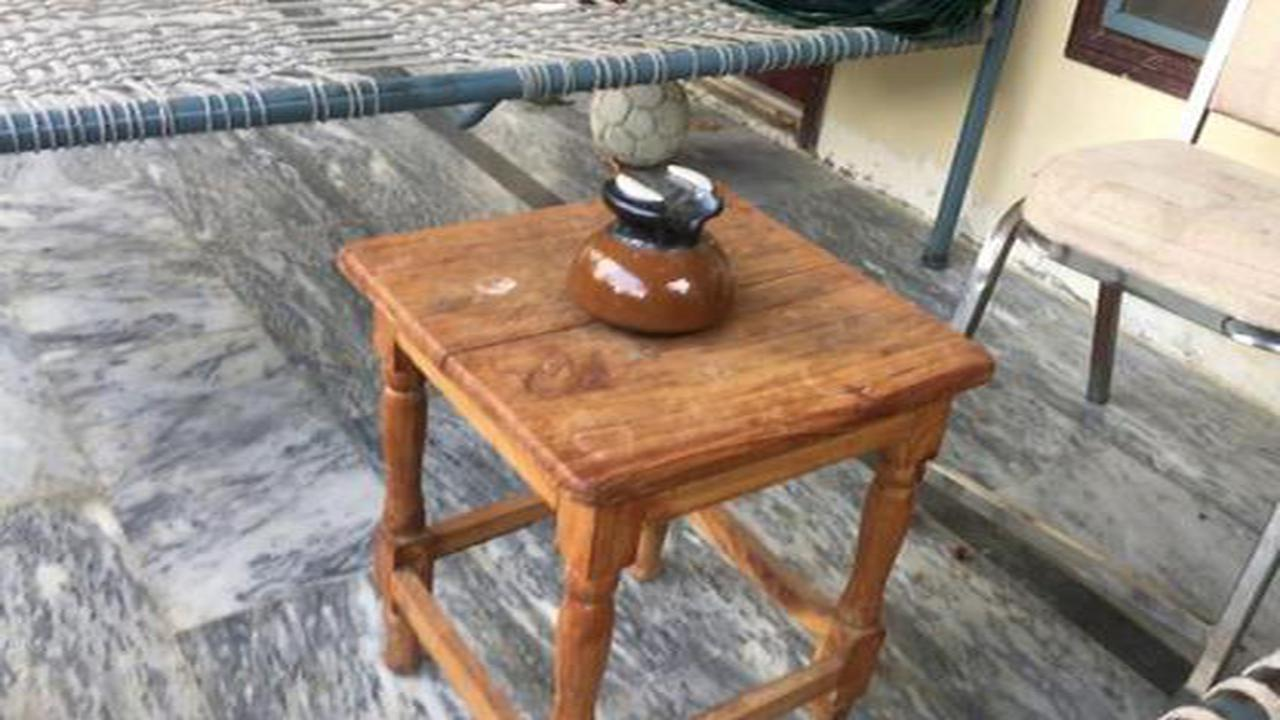insulator_pin: (548, 148, 764, 345)
